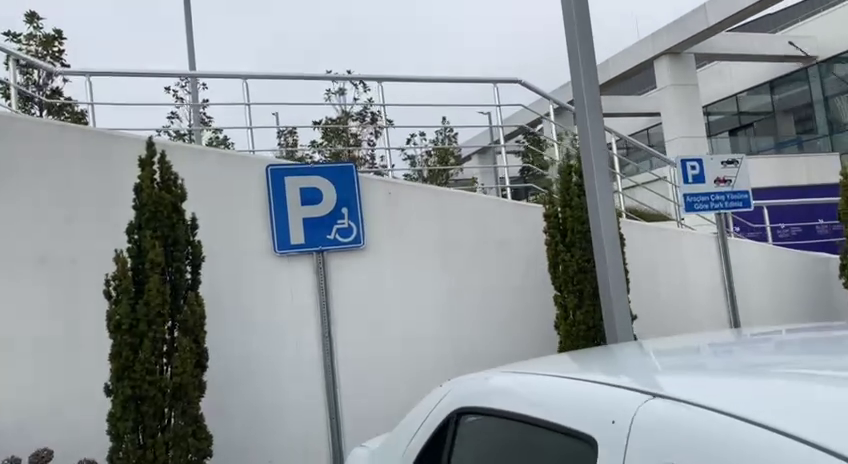parking: (265, 158, 367, 256), (680, 157, 705, 184)
